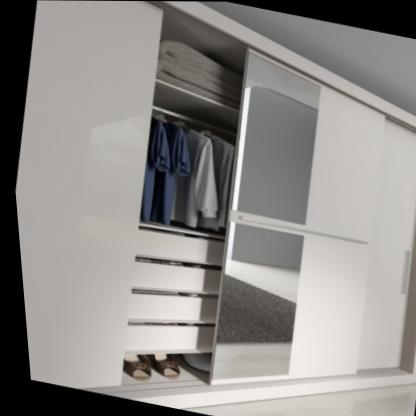Closet: (13, 0, 416, 409)
